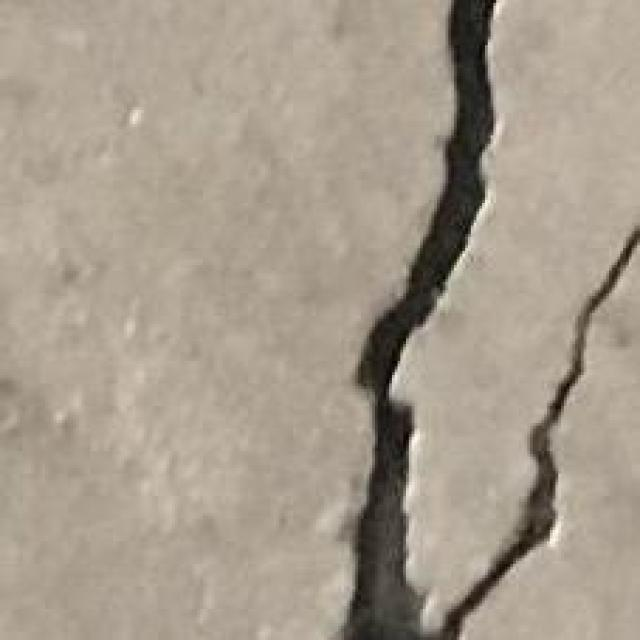branched cracks: (343, 0, 639, 639)
